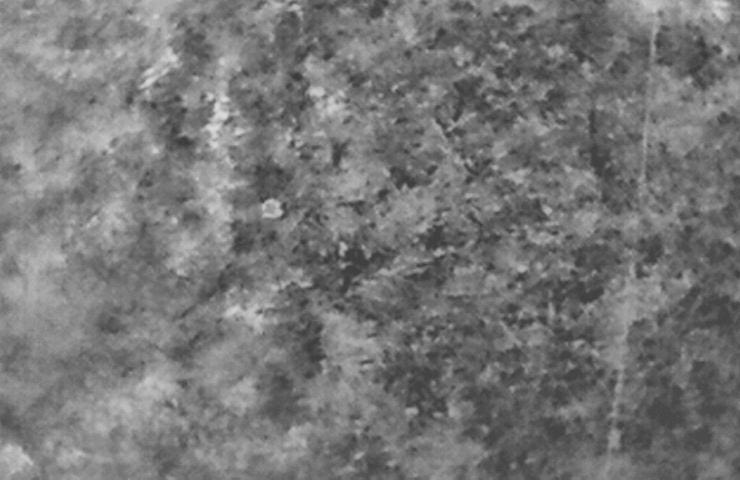landmines: (257, 195, 289, 225)
